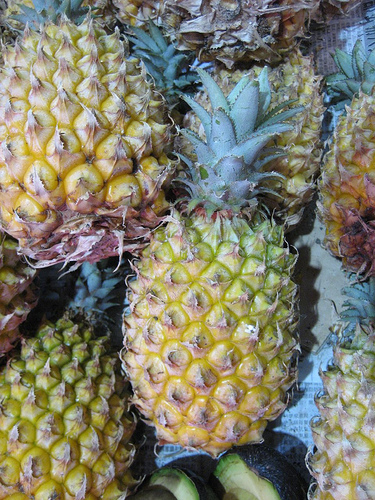pineapple: (122, 67, 303, 456), (0, 10, 180, 268), (2, 270, 127, 498), (302, 277, 373, 498), (315, 31, 373, 273)
